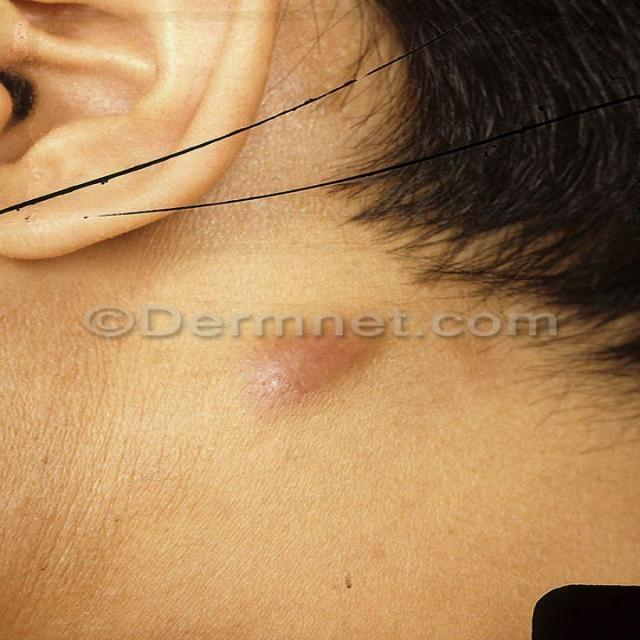Shingles: (249, 318, 379, 406)
